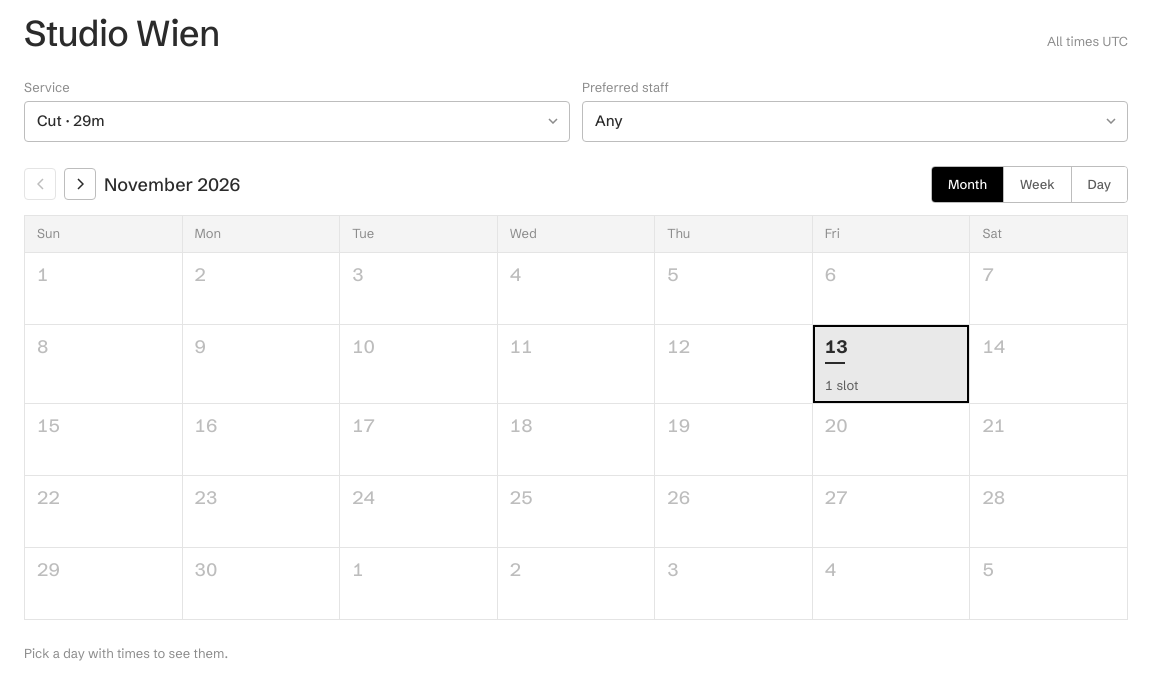
Test: Booking › tells a rate-limited customer to wait
Click the button "13 1 slot" at (892, 364), box [813,325,970,404]
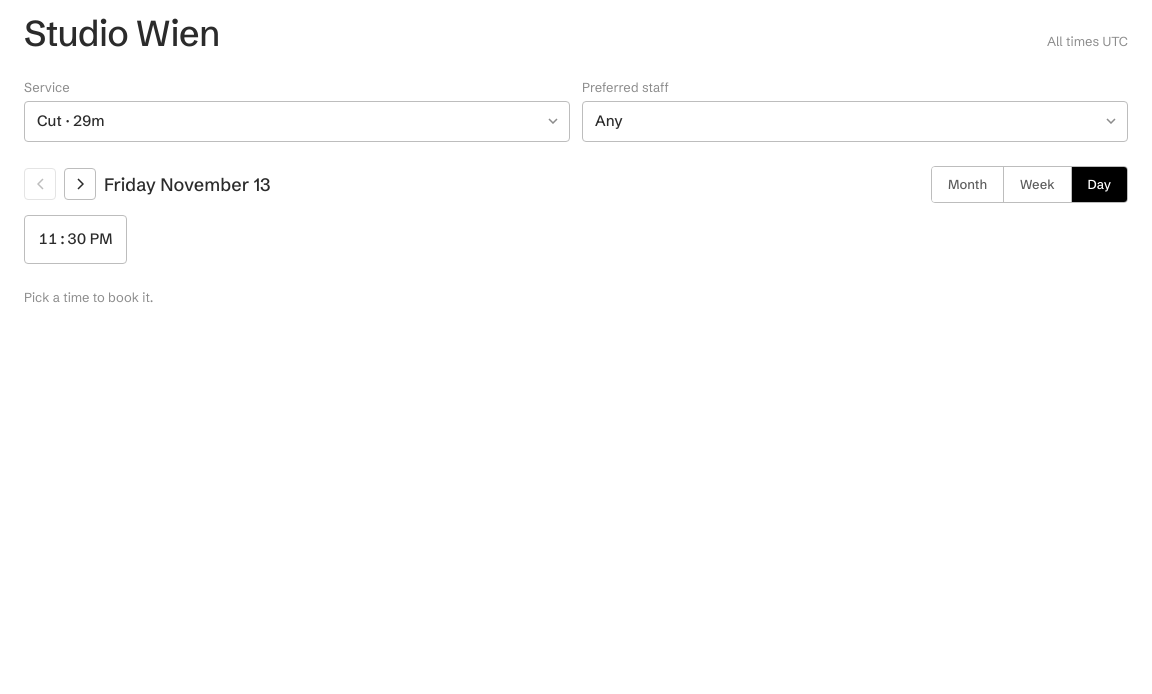
Click the button "11:30 PM" at (76, 239), box [24,215,127,264]
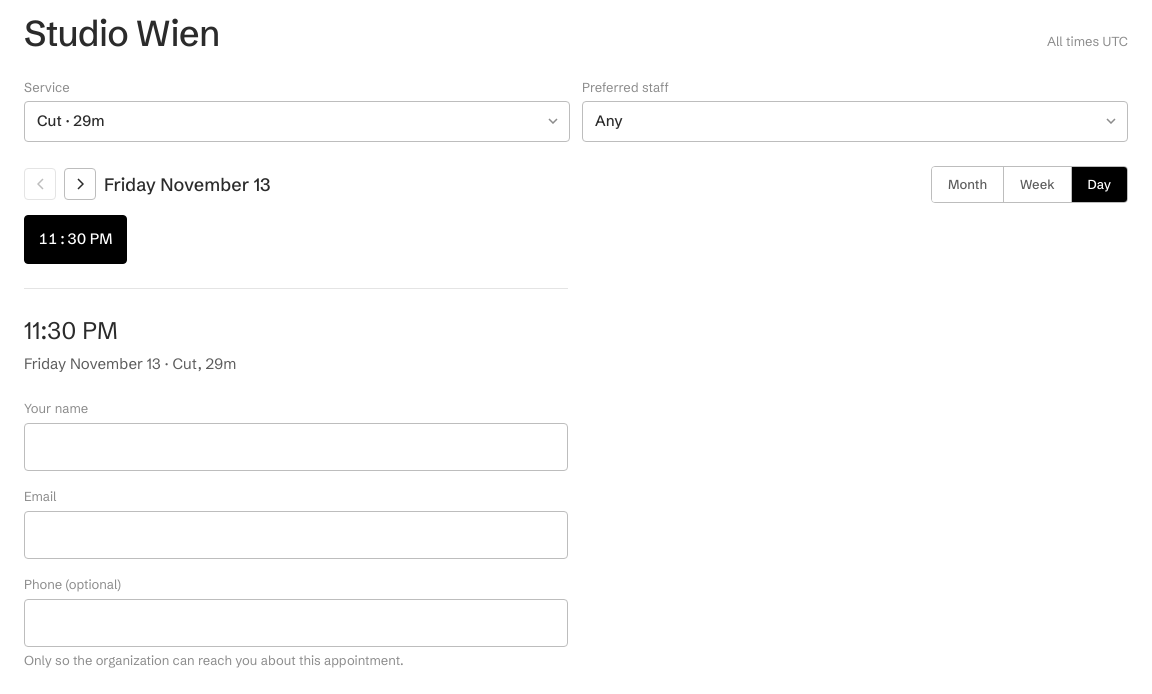
Type "Jo" into the field labelled "Your name" at (296, 447), box [24,423,568,471]
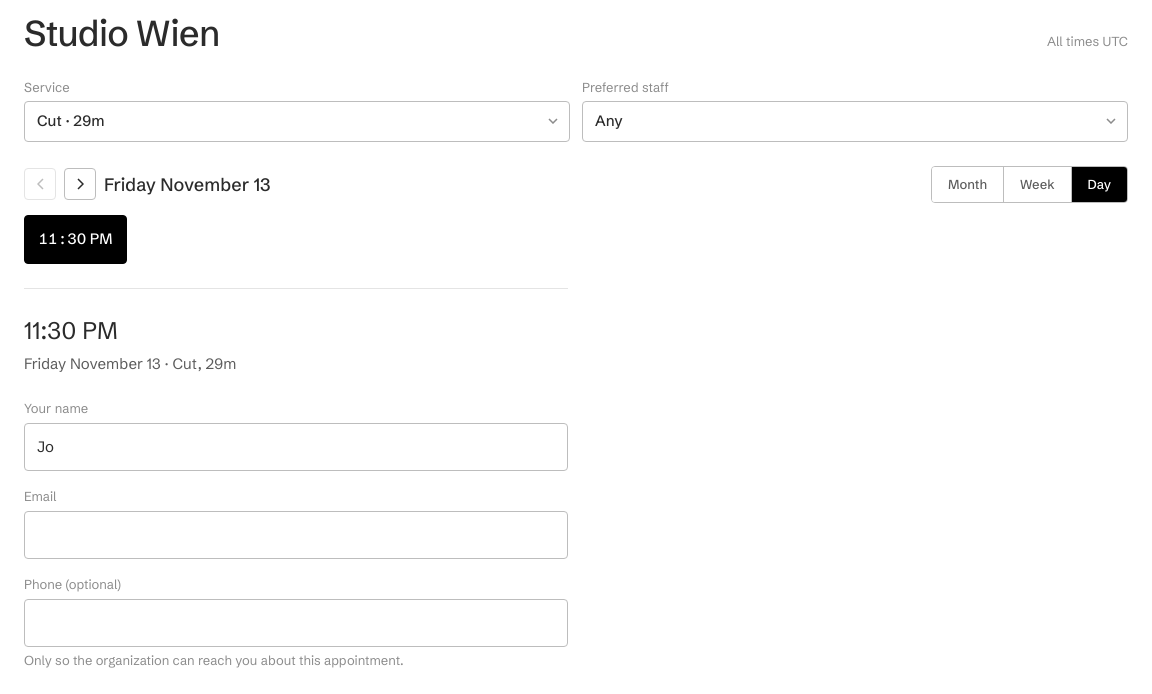
Type "jo@example.com" into the field labelled "Email" at (296, 535), box [24,511,568,559]
(page scrolled)
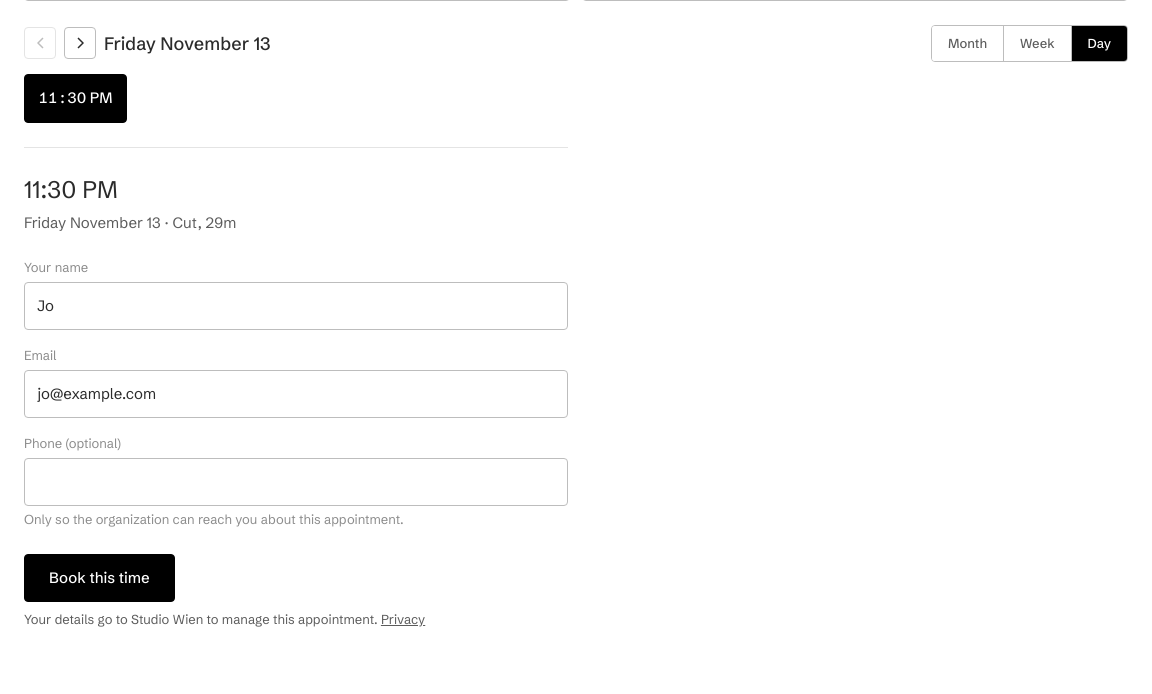
Click the button "Book this time" at (99, 578), box [24,554,175,602]
(page scrolled)
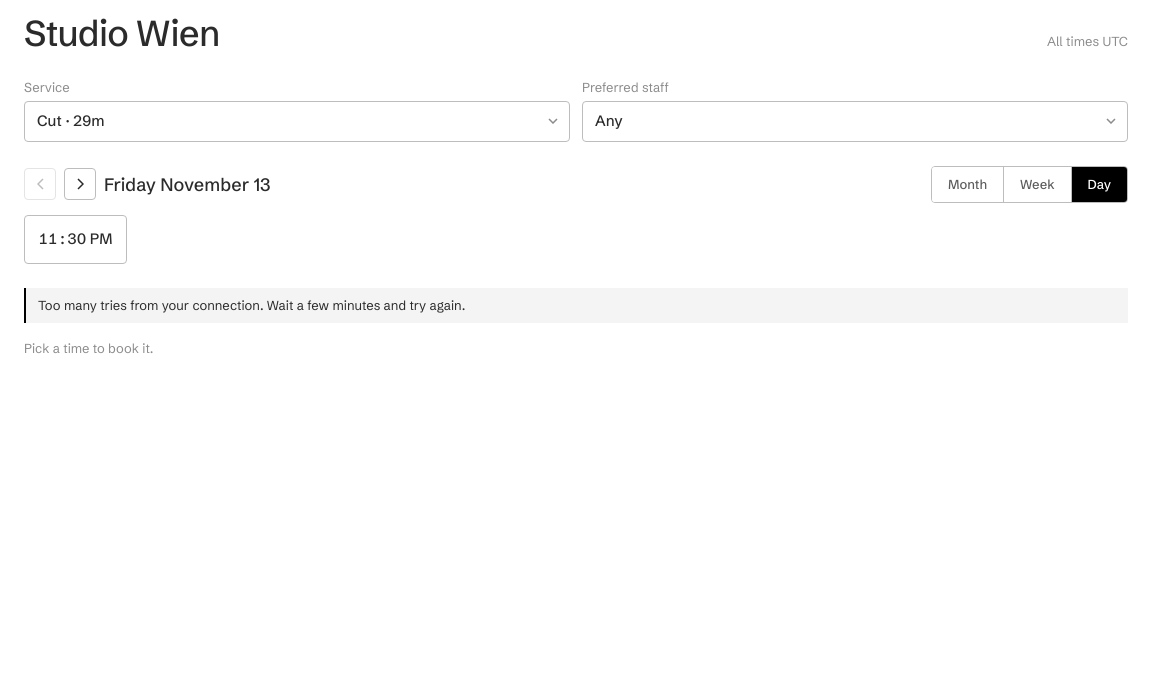
Now the text "Too many tries from your connection. Wait a few minutes and try again." is shown, box [24,288,1128,323]
